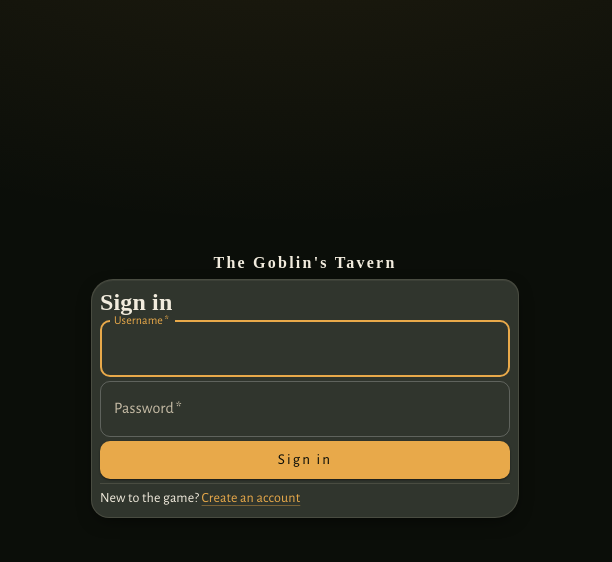
Test: SignInRoute (UI-1 … UI-12) › UI-8 / UI-9: a 401 shows exactly one alert with the shared invalid-credentials copy, keeps Username, clears Password, and marks neither field invalid
Type "nobody" into the field labelled "Username *" at (305, 349), box [100,321,510,377]
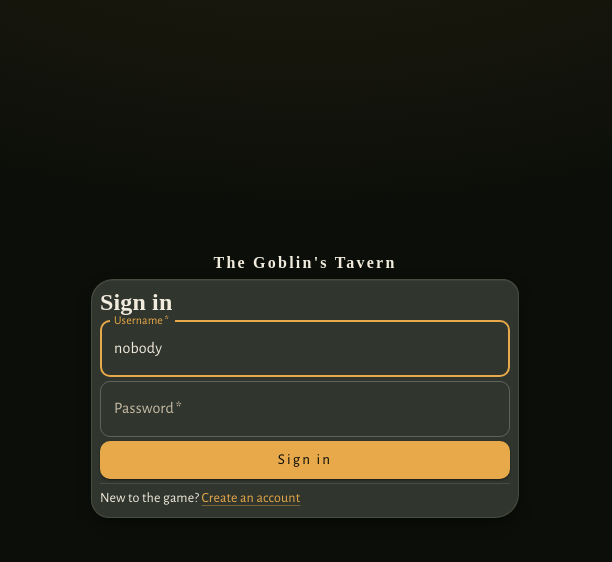
Type "wrong-password" into the password field labelled "Password *" at (305, 409), box [100,381,510,437]
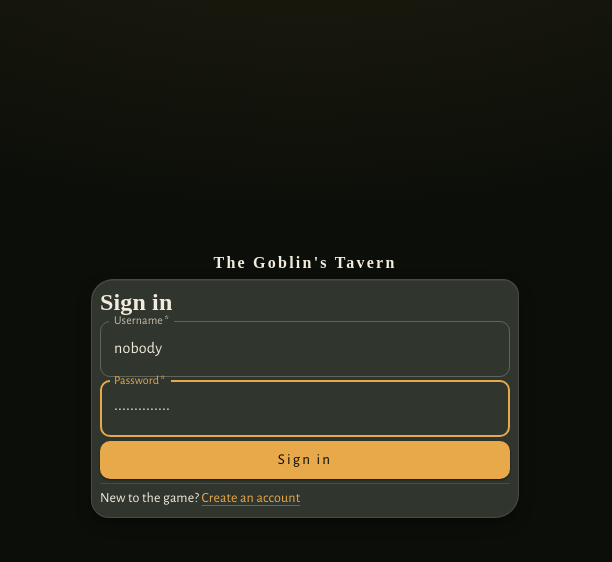
Click the button "Sign in" at (305, 460), box [100,441,510,479]
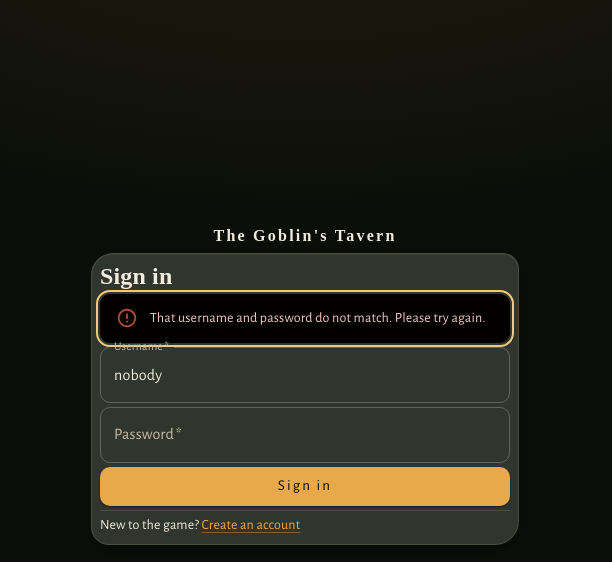
Expected: the number of messages is 1, [100,294,510,343]
Expected: the message reads "That username and password do not match. Please try again.", [150,311,486,325]
Expected: the password field labelled "Password *" is empty, [100,407,510,463]
